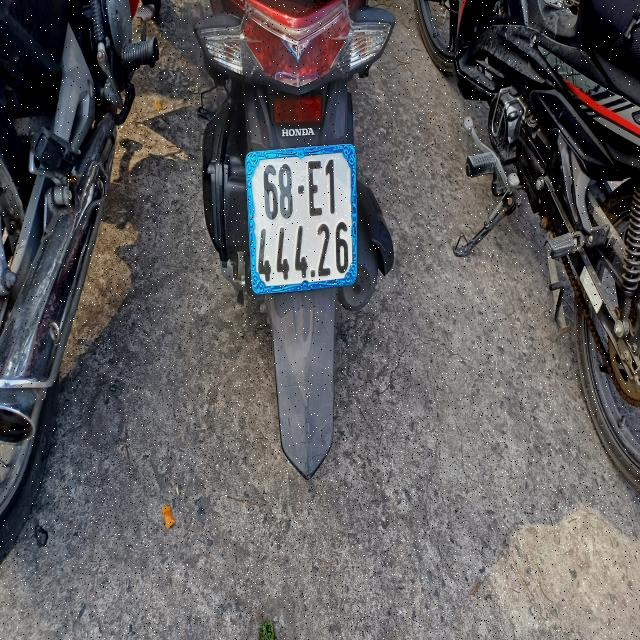1: (324, 158, 338, 218)
2: (316, 222, 332, 278)
4: (276, 225, 292, 281), (294, 226, 309, 281), (258, 223, 272, 280)
6: (262, 162, 279, 222)
7: (334, 222, 349, 271)
8: (278, 160, 294, 223)
E: (308, 158, 323, 218)
